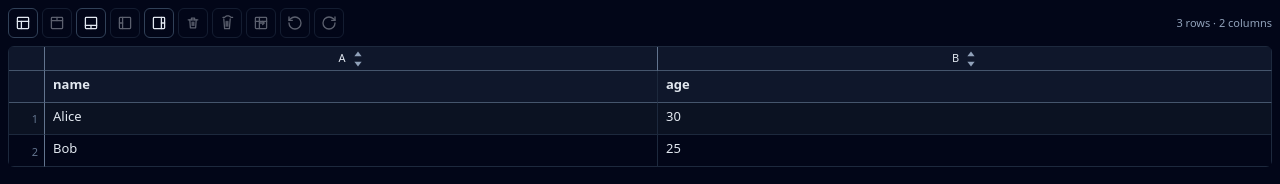
Scenario: CsvPreview (custom grid) › Delete rows toolbar button removes a selected row
The image size is (1280, 184).
Press the mouse on the cell "1": [27, 119] box 9,103 -> 45,135
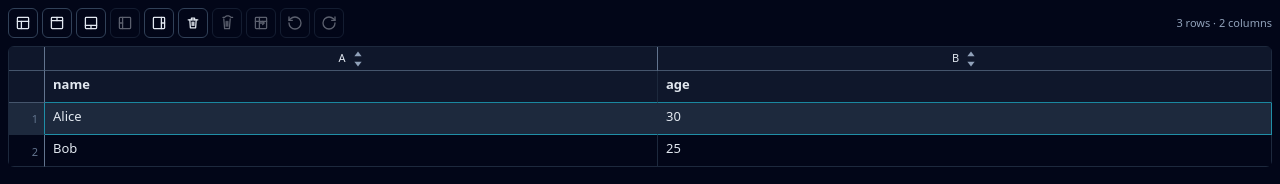
Click the button named "Delete rows": [193, 23] box 178,8 -> 208,38
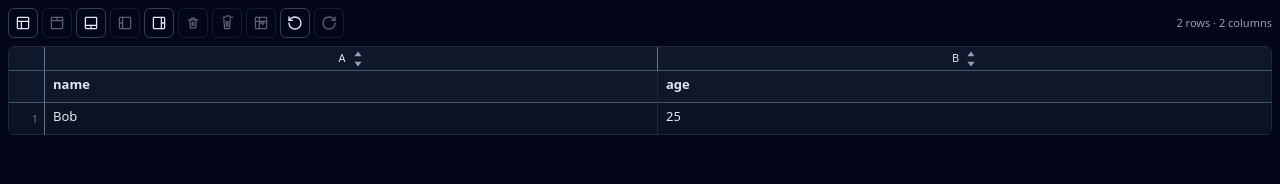
Expected: the text "2 rows · 2 columns" is shown, 1176,16 -> 1272,30
